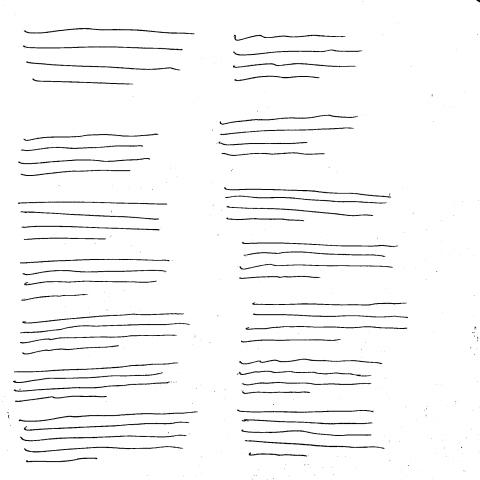Paragraph: (18, 27, 198, 88), (18, 413, 201, 465), (13, 360, 183, 405), (234, 409, 382, 459), (19, 313, 190, 356), (239, 301, 412, 342), (232, 31, 362, 83), (18, 133, 168, 178), (20, 259, 170, 303), (221, 185, 391, 223), (237, 242, 400, 281), (18, 200, 169, 242), (216, 114, 358, 158), (237, 358, 383, 396)
